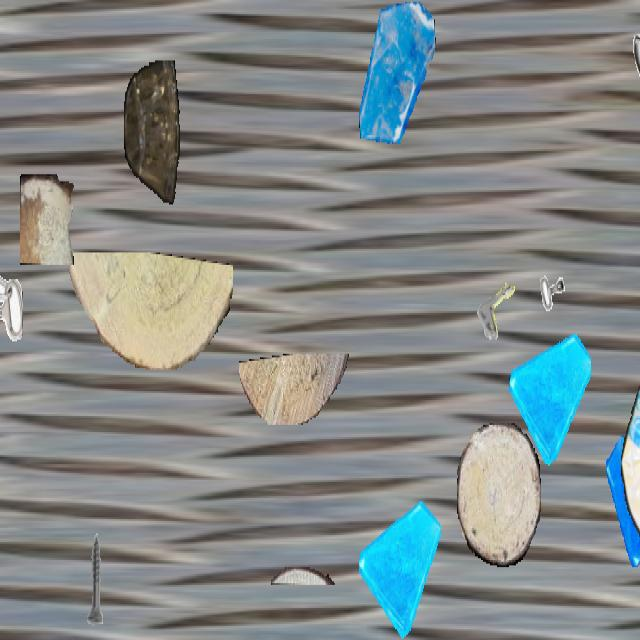glass: (359, 492, 441, 638), (509, 320, 591, 466), (357, 2, 437, 144), (606, 432, 640, 567)
metal: (473, 251, 533, 357), (68, 530, 122, 626), (527, 268, 577, 358), (0, 262, 22, 351), (629, 16, 640, 87)
plastic: (124, 60, 180, 206), (620, 257, 640, 564)
wood: (62, 252, 232, 370), (457, 423, 541, 565), (239, 354, 351, 425), (20, 174, 74, 263), (271, 567, 335, 585)
